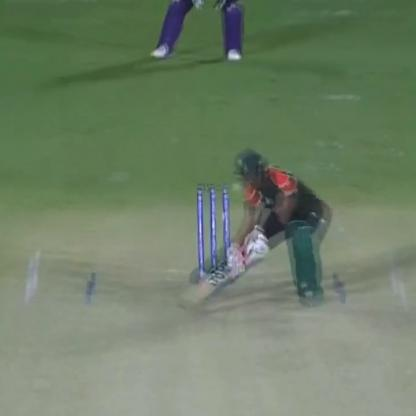ball: (231, 183, 242, 193)
bat: (177, 239, 261, 306)
pitch: (0, 250, 415, 415)
